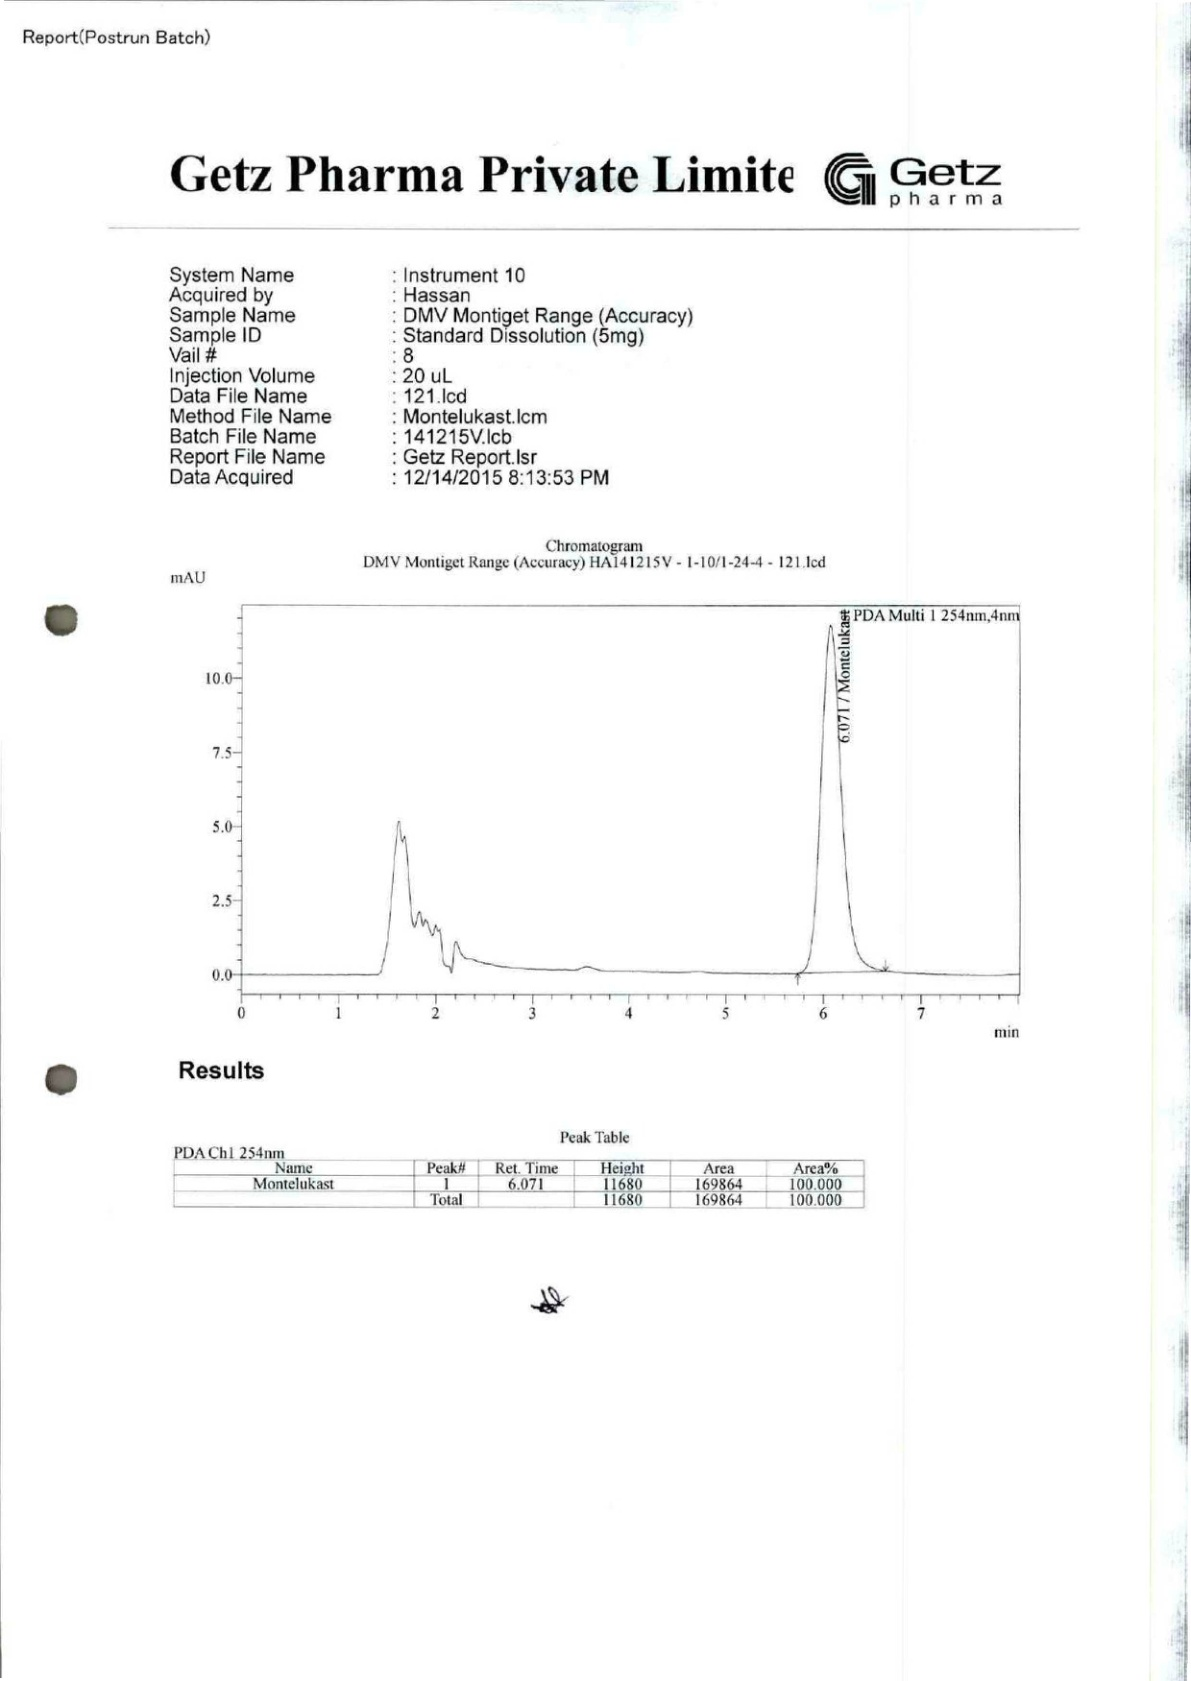full_lined: (170, 1152, 870, 1216)
nolines: (165, 258, 730, 495)
